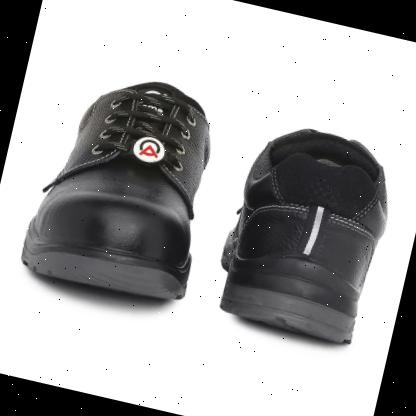bota: (13, 58, 233, 314), (206, 113, 408, 353)
